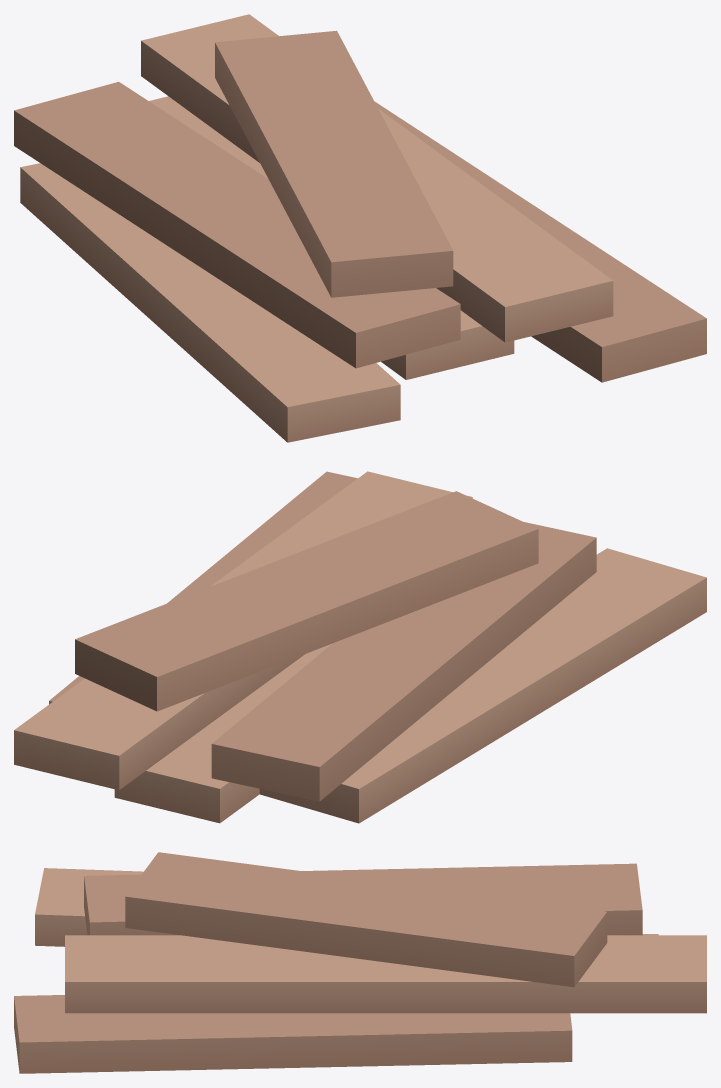
The model's file is resource-planks.glb.
3 renders of one model, top to bottom at view 1: azimuth 30°, elevation 25°; view 2: azimuth 150°, elevation 25°; view 3: azimuth 270°, elevation 25°, orthographic. The views are drawn at different scales.
Visible parts, largest first — view 1: resource-planks; view 2: resource-planks; view 3: resource-planks.
Boxes of the visible parts, x1,y1,x2,y2 form: resource-planks: [14, 14, 706, 442]; resource-planks: [14, 471, 706, 823]; resource-planks: [14, 852, 706, 1073].
Bounding box in the file's own units: 0.3729 × 0.0936 × 0.626.
